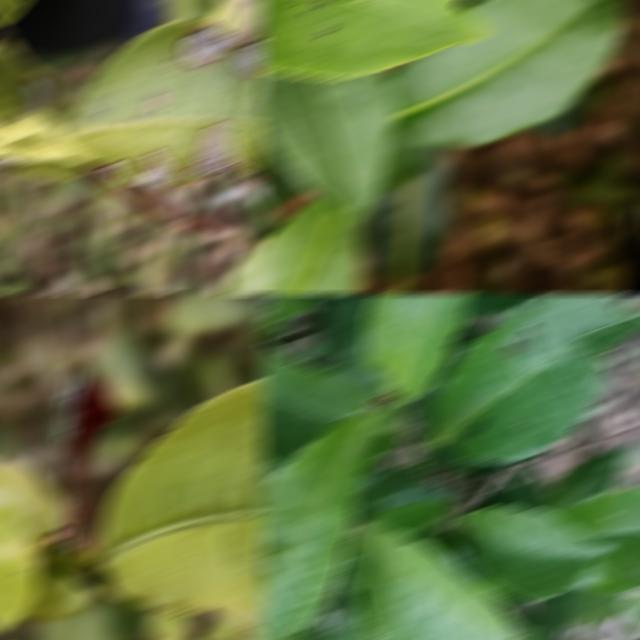Leaf: (96, 380, 266, 629), (428, 295, 640, 462), (388, 1, 625, 145), (62, 21, 266, 185), (258, 413, 381, 639), (258, 73, 395, 233), (354, 523, 521, 639), (258, 1, 487, 77), (258, 342, 378, 463), (458, 507, 610, 599), (362, 134, 452, 279), (363, 295, 472, 403), (258, 200, 363, 293), (552, 487, 640, 588), (0, 38, 74, 127), (548, 442, 632, 511), (85, 327, 154, 410), (353, 463, 452, 519), (309, 295, 377, 368), (286, 588, 361, 639), (368, 501, 451, 546), (488, 467, 554, 512), (562, 586, 625, 626), (529, 590, 573, 639), (221, 250, 266, 293), (368, 410, 406, 456), (11, 161, 85, 180), (341, 536, 366, 592), (164, 1, 221, 20)
